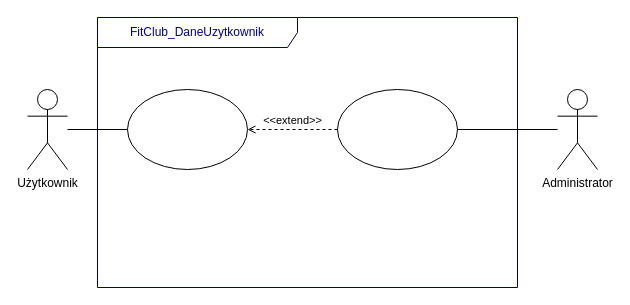
Image size: 630x305. Some labels were removed from this diagram. Here are the shapes that lost their labels. From the top down, the box of each, then its label:
(126, 88, 248, 170): Edytuj dane profilu użytkownika
(336, 88, 458, 170): Przeglądaj listę użytkowników
